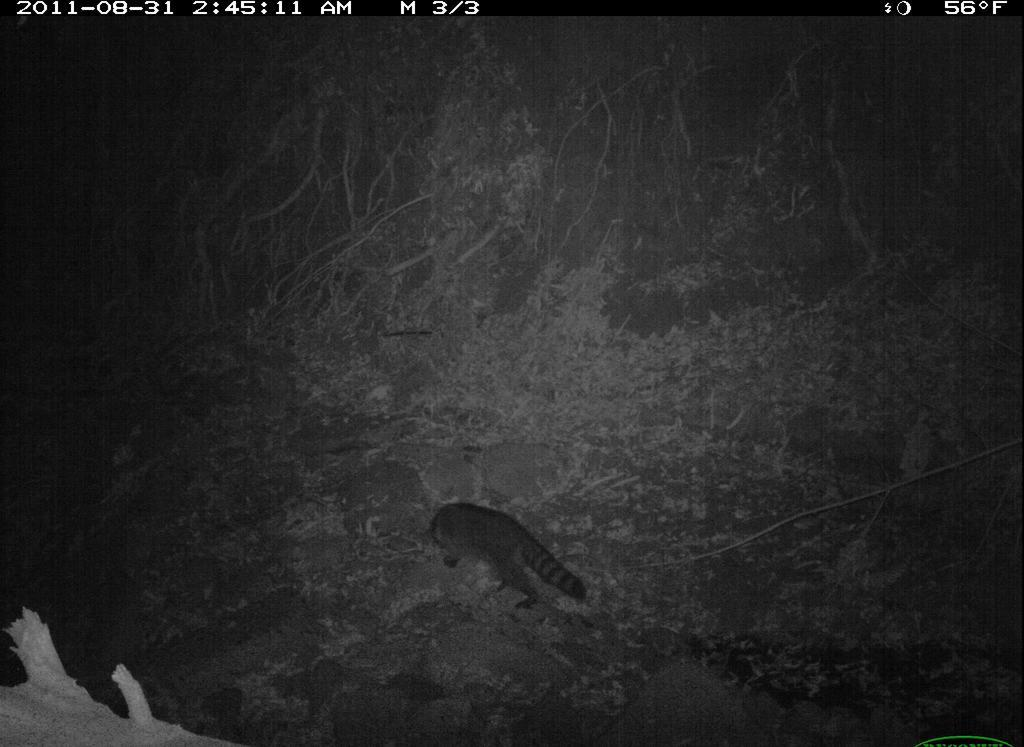raccoon: (422, 498, 592, 619)
